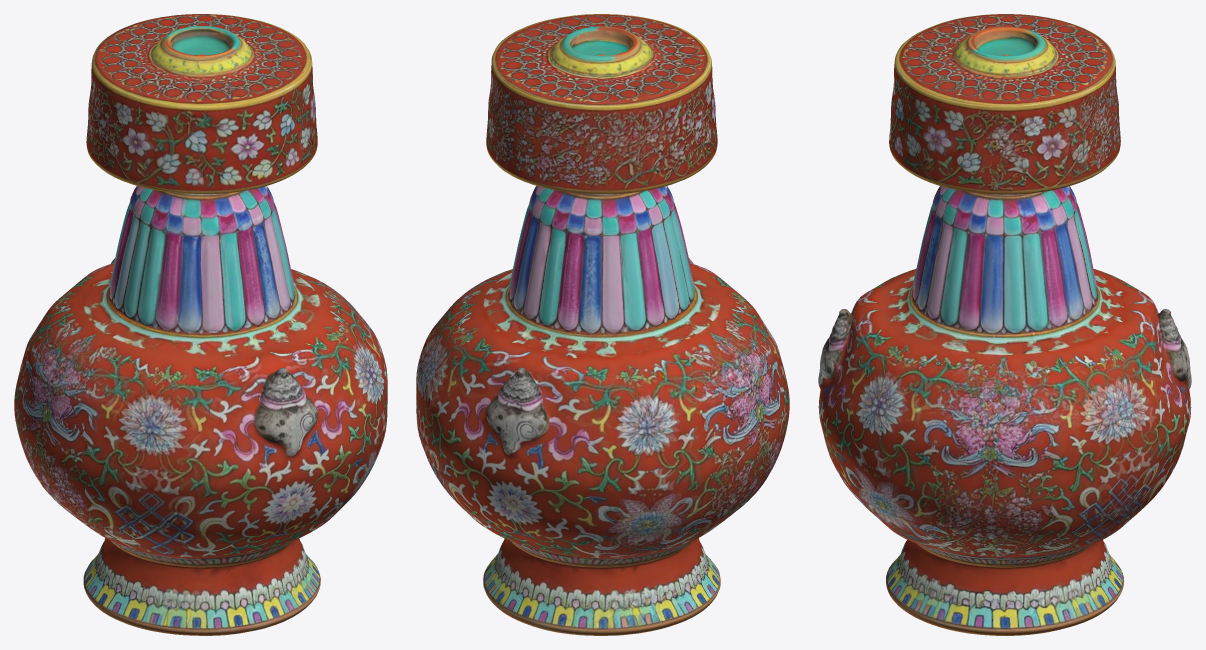
Rendered from 粉彩珊瑚紅地番蓮八吉祥紋賁巴壺.glb.
3 renders of one model, left to right at view 1: azimuth 30°, elevation 25°; view 2: azimuth 150°, elevation 25°; view 3: azimuth 270°, elevation 25°, orthographic.
Parts seen in each view (by area): view 1: tripo_node_fdf030c9; view 2: tripo_node_fdf030c9; view 3: tripo_node_fdf030c9.
Part boxes in pixels (left/top/right/bottom): tripo_node_fdf030c9: left=14, top=14, right=387, bottom=635; tripo_node_fdf030c9: left=416, top=14, right=789, bottom=635; tripo_node_fdf030c9: left=818, top=14, right=1191, bottom=635.
Size of the model in its own units: 60.37 by 97.91 by 60.64.
Materials: 1 (1 with a texture image).
